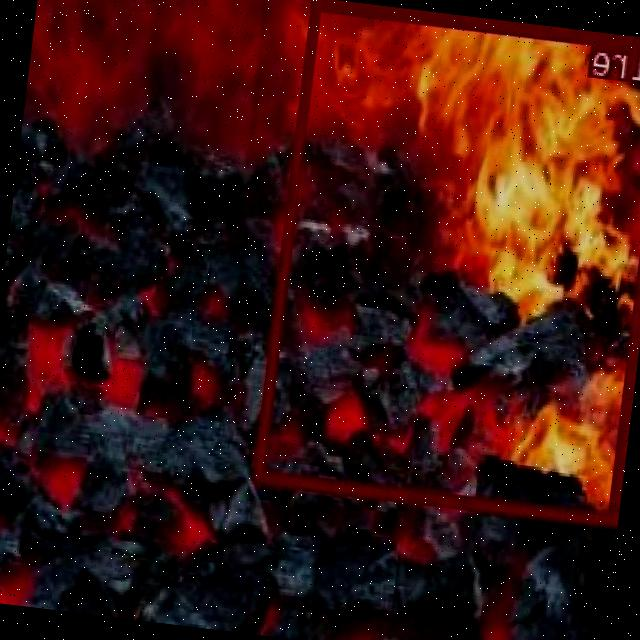fire: (254, 0, 640, 523)
